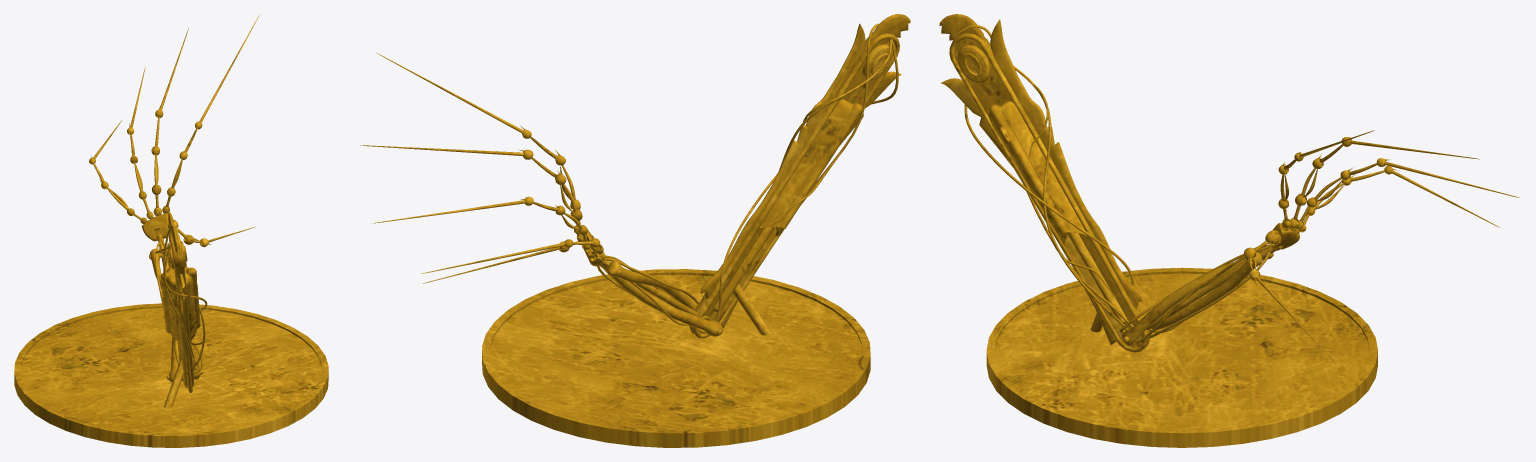
File: poppy_playtime__trophy_-_claw__exp.1006.glb
The picture shows the model from 3 angles, left to right: view 1: azimuth 30°, elevation 25°; view 2: azimuth 150°, elevation 25°; view 3: azimuth 270°, elevation 25°; orthographic projection. The views are drawn at different scales.
Parts seen in each view (by area): view 1: trophy_claw; view 2: trophy_claw; view 3: trophy_claw.
Boxes of the visible parts, bbox=[...] form: trophy_claw: bbox=[14, 15, 328, 447]; trophy_claw: bbox=[360, 14, 910, 447]; trophy_claw: bbox=[939, 14, 1519, 447].
Bounding box in the file's own units: 0.6299 × 0.5374 × 0.8438.
2 materials, 2 textured.
